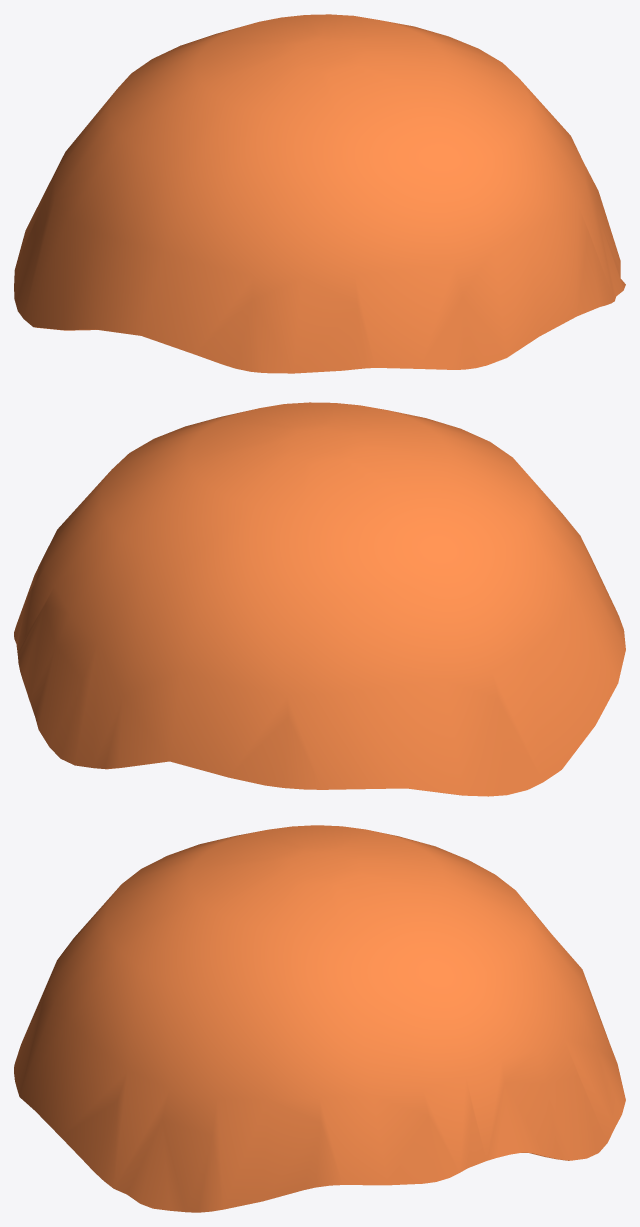
File: Ice Cream Melted Chocolate Caramel.fbx
The picture shows the model from 3 angles, top to bottom: view 1: azimuth 30°, elevation 25°; view 2: azimuth 150°, elevation 25°; view 3: azimuth 270°, elevation 25°; orthographic projection. The views are drawn at different scales.
Parts seen in each view (by area): view 1: Ice Cream Melted Chocolate Caramel; view 2: Ice Cream Melted Chocolate Caramel; view 3: Ice Cream Melted Chocolate Caramel.
Boxes of the visible parts, x1,y1,x2,y2 form: Ice Cream Melted Chocolate Caramel: (14, 14, 625, 373); Ice Cream Melted Chocolate Caramel: (14, 402, 625, 796); Ice Cream Melted Chocolate Caramel: (14, 825, 625, 1212).
Size of the model in its own units: 0.4696 by 0.2058 by 0.4726.
